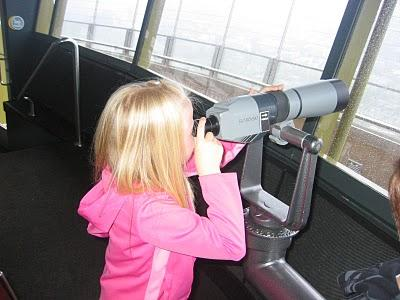person: (77, 78, 286, 298)
